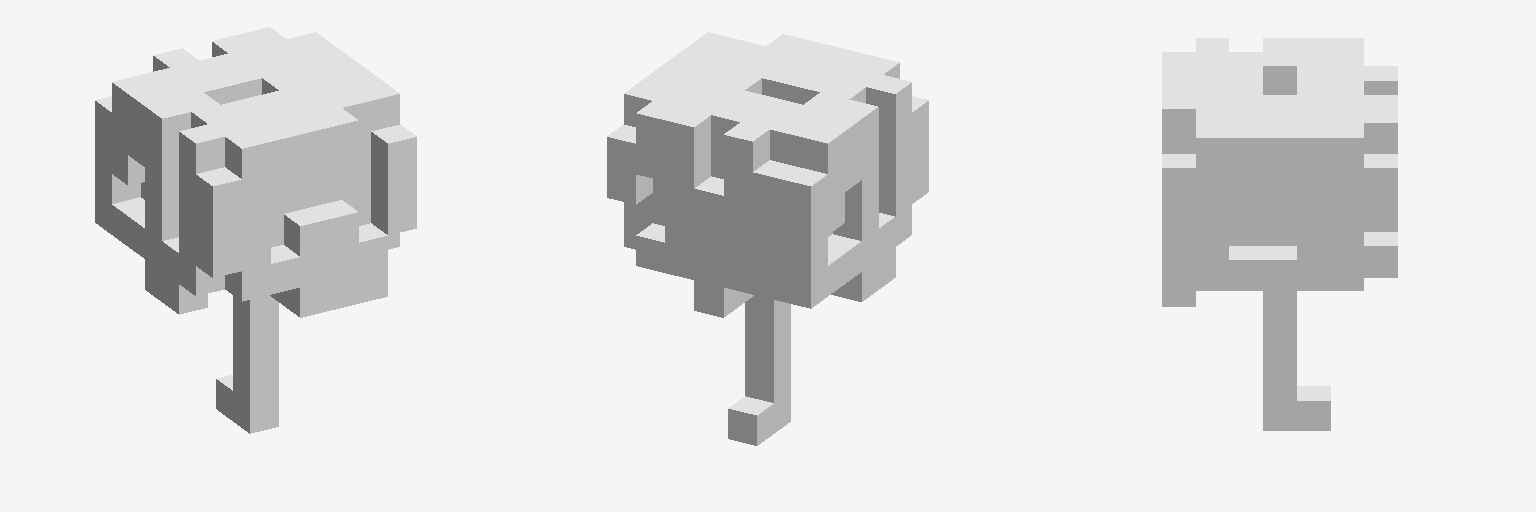
Rendered from Tree1-0.obj.
The picture shows the model from 3 angles: view 1: azimuth 30°, elevation 25°; view 2: azimuth 150°, elevation 25°; view 3: azimuth 270°, elevation 25°; orthographic projection.
Visible parts, largest first — view 1: object 1; view 2: object 1; view 3: object 1.
Part boxes in pixels (x1,y1,x2,y2): object 1: (95,27,416,433); object 1: (607,32,928,445); object 1: (1162,38,1397,430).
Bounding box in the file's own units: 0.7 × 1.1 × 0.7.